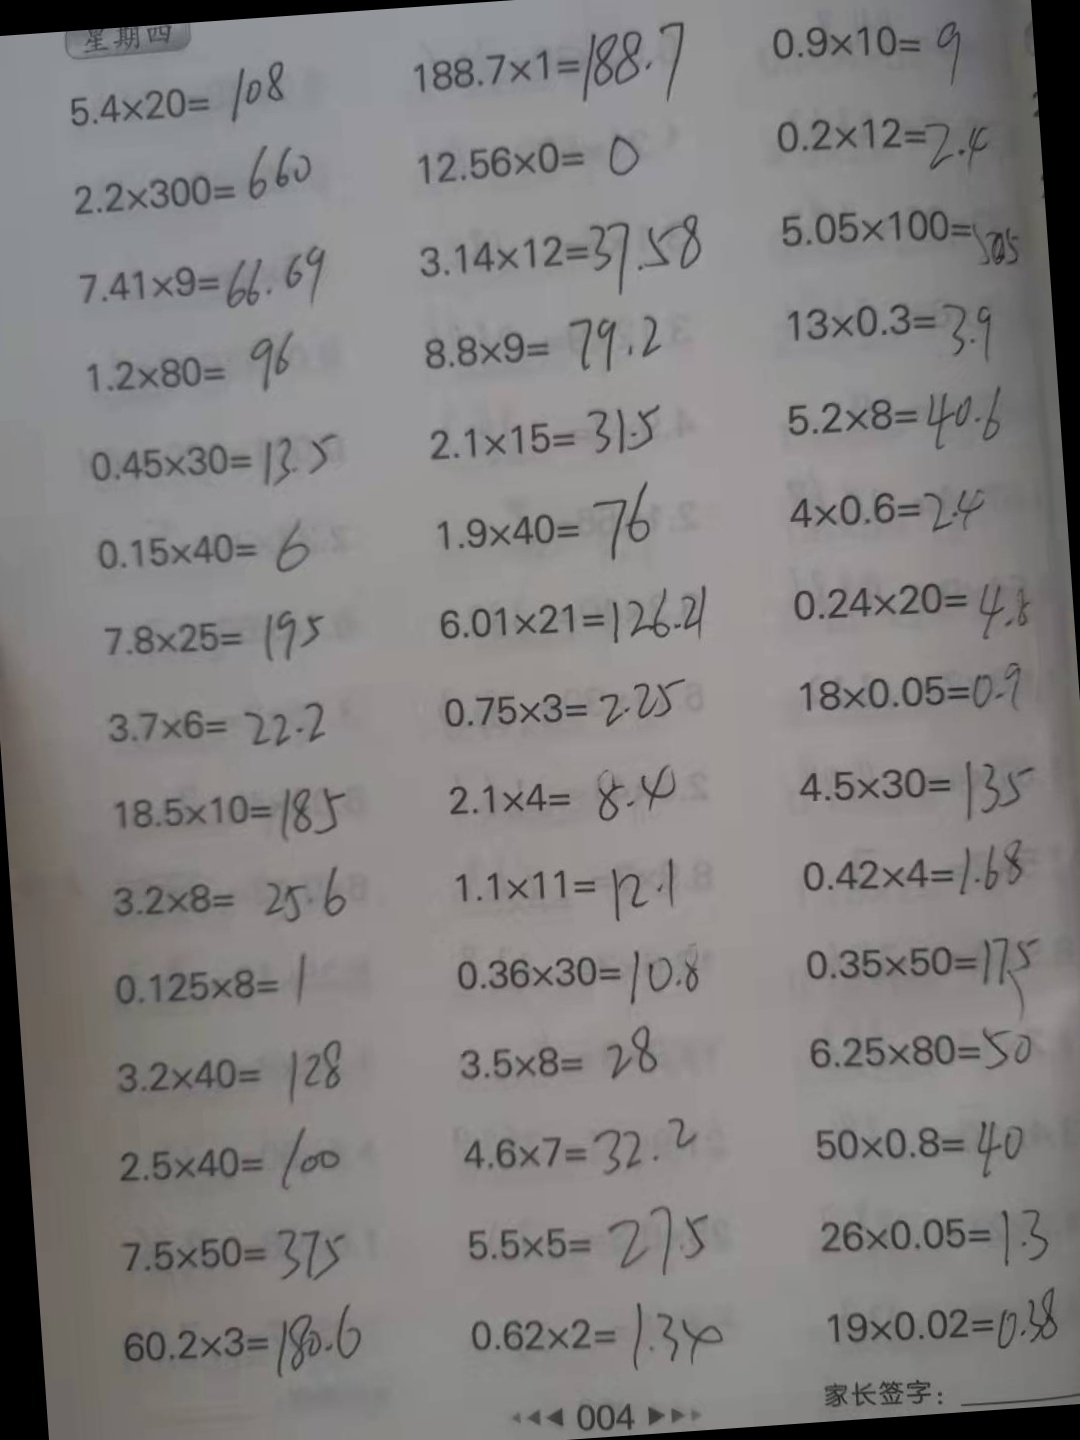equation: (408, 24, 707, 112), (456, 1196, 708, 1293), (461, 1298, 729, 1388), (449, 932, 724, 1016), (778, 196, 1024, 286), (115, 1303, 377, 1384), (410, 215, 709, 287), (790, 562, 1041, 645), (811, 1198, 1063, 1279), (449, 1110, 711, 1186), (70, 244, 336, 319), (436, 482, 661, 569), (761, 8, 973, 100), (440, 849, 692, 926), (438, 668, 692, 743), (116, 1215, 355, 1295), (423, 303, 668, 380), (433, 587, 720, 653), (796, 753, 1037, 831), (770, 107, 994, 190), (66, 144, 319, 218), (113, 1124, 358, 1200), (807, 1110, 1039, 1188), (82, 422, 340, 492), (101, 779, 357, 848), (108, 866, 363, 935), (71, 331, 305, 406), (110, 1033, 352, 1104), (790, 844, 1037, 913), (101, 601, 330, 675), (801, 1016, 1039, 1086), (792, 929, 1051, 993), (796, 657, 1030, 728), (783, 296, 992, 375), (428, 400, 667, 468), (824, 1290, 1065, 1357), (446, 764, 689, 830), (84, 514, 321, 579), (450, 1026, 666, 1098), (49, 59, 299, 120), (786, 388, 1013, 454), (416, 132, 649, 195), (107, 946, 321, 1014), (100, 694, 334, 756), (786, 475, 994, 544)
